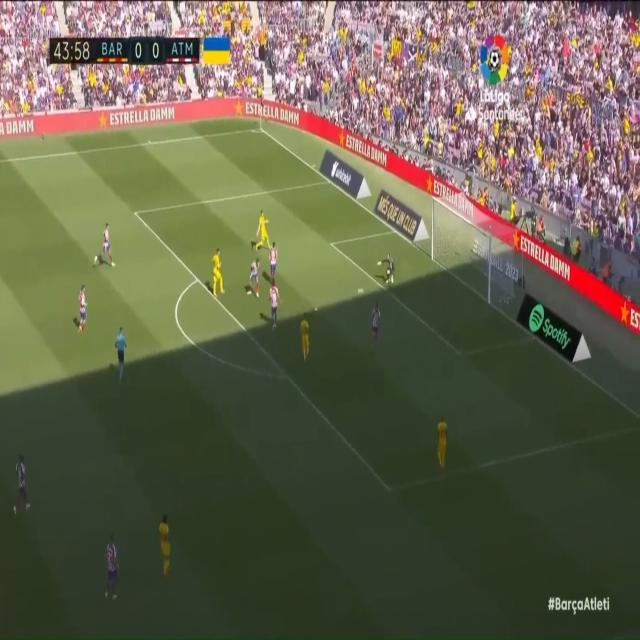ball: (356, 283, 366, 301)
goalkeeper: (375, 253, 397, 288)
player: (13, 447, 33, 522), (93, 214, 117, 268), (209, 250, 231, 302), (104, 527, 119, 597), (431, 417, 449, 474), (157, 511, 172, 576), (77, 286, 95, 339), (253, 211, 270, 257), (298, 311, 311, 370), (367, 296, 382, 345), (266, 241, 281, 287), (268, 279, 280, 332), (247, 256, 261, 301)
referee: (116, 324, 128, 386)
